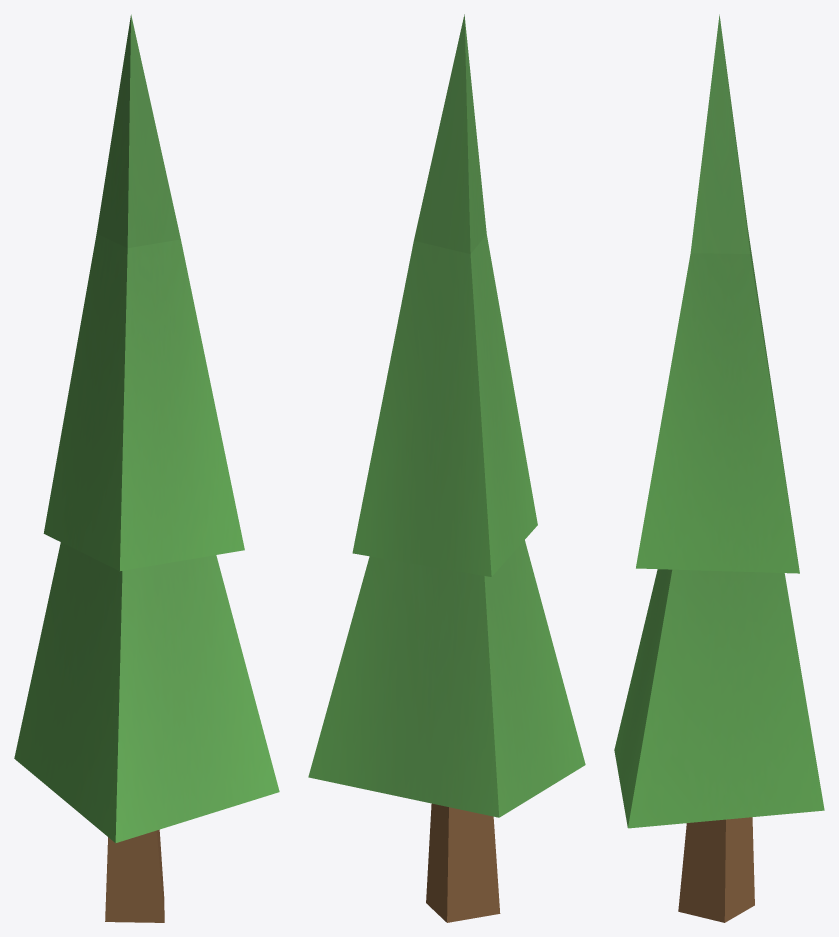
File: Fir_Tree_OneSided_s_07.fbx
3 renders of one model, left to right at view 1: azimuth 30°, elevation 25°; view 2: azimuth 150°, elevation 25°; view 3: azimuth 270°, elevation 25°, orthographic.
Parts seen in each view (by area): view 1: Fir_Tree_OneSided_s_07; view 2: Fir_Tree_OneSided_s_07; view 3: Fir_Tree_OneSided_s_07.
Boxes of the visible parts, x1,y1,x2,y2 form: Fir_Tree_OneSided_s_07: (14,14,279,922); Fir_Tree_OneSided_s_07: (308,14,585,922); Fir_Tree_OneSided_s_07: (614,14,824,922).
Size of the model in its own units: 33.97 by 162 by 34.71.
